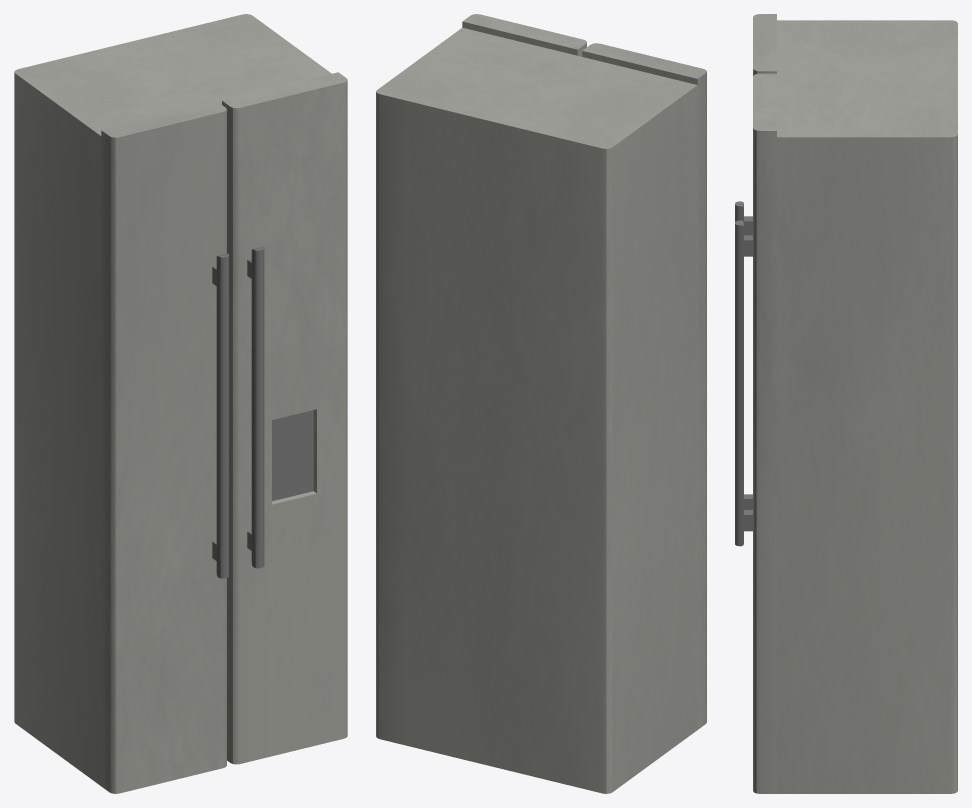
3 renders of one model, left to right at view 1: azimuth 30°, elevation 25°; view 2: azimuth 150°, elevation 25°; view 3: azimuth 270°, elevation 25°, orthographic.
Visible parts, largest first — view 1: pCube1, pCube4, pCube3; view 2: pCube1; view 3: pCube1, pCube3, pCube4.
Part boxes in pixels (x1=…): pCube1: x1=14, y1=14, x2=347, y2=793; pCube4: x1=212, y1=253, x2=229, y2=578; pCube3: x1=247, y1=246, x2=264, y2=568; pCube1: x1=376, y1=14, x2=706, y2=793; pCube1: x1=753, y1=14, x2=957, y2=793; pCube3: x1=735, y1=220, x2=752, y2=546; pCube4: x1=735, y1=201, x2=752, y2=509.
Bounding box in the file's own units: 3.77 × 9.95 × 3.03.
